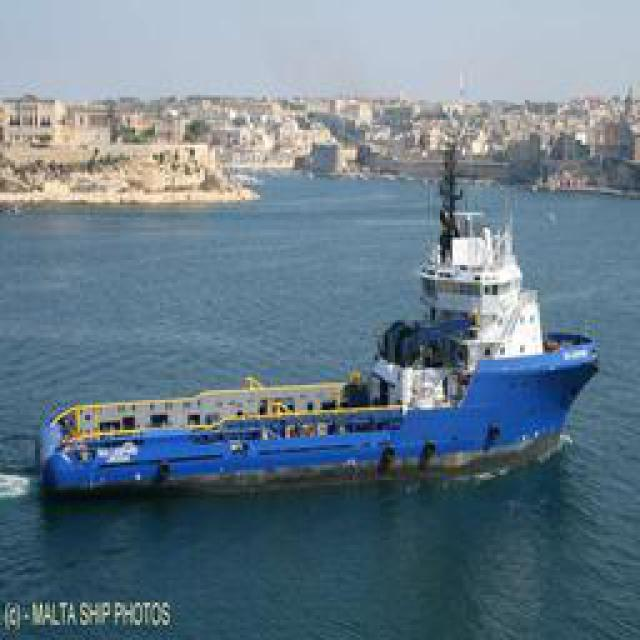Ship: (50, 253, 613, 498)
